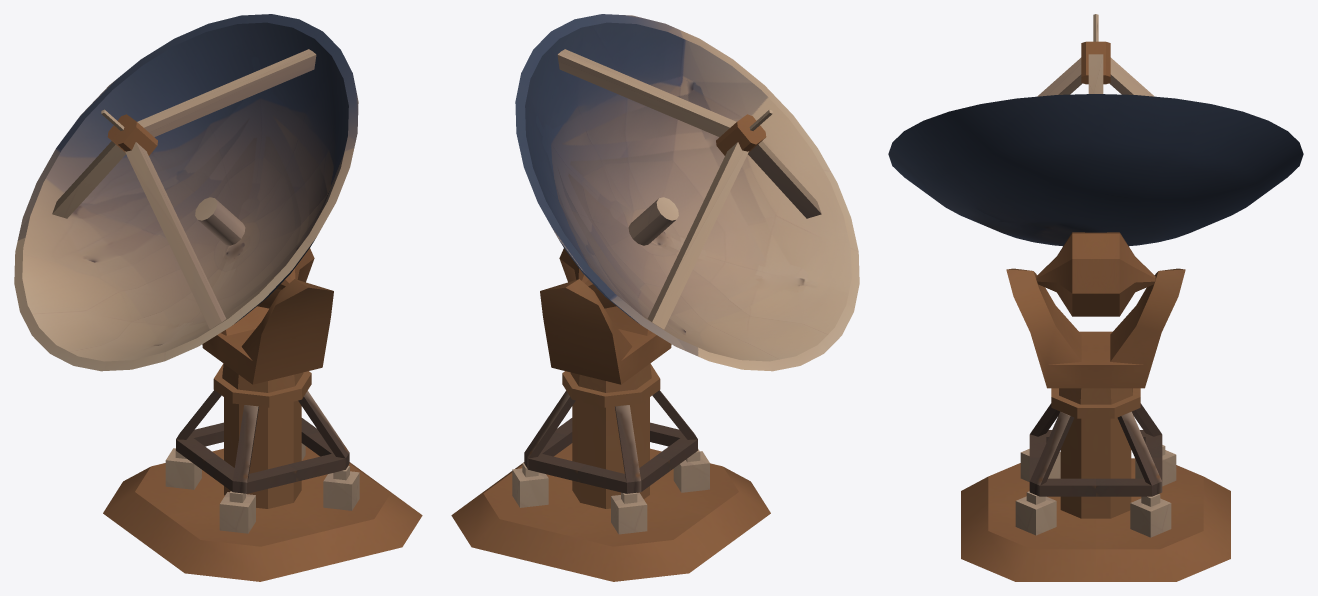
Rendered from satellite_dish.glb.
3 views of the same model, side by side, from view 1: azimuth 30°, elevation 25°; view 2: azimuth 150°, elevation 25°; view 3: azimuth 270°, elevation 25° (orthographic).
Parts seen in each view (by area): view 1: material.001, Cube.001, Cube.004, Cylinder, Cube.006, Cube.003, Cube.005, Cylinder.001, Cube, Cylinder.002; view 2: material.001, Cube.001, Cube.004, Cylinder, Cube.005, Cube.003, Cube.006, Cylinder.001, Cube, Cylinder.002; view 3: material.001, Cube.001, Cube.004, Cylinder, Cylinder.002, Cube, Cube.005, Cube.006, Cube.003.
Part boxes in pixels (box(x1,y1,x2,y2)): material.001: box(14, 14, 358, 371); Cube.001: box(103, 390, 422, 581); Cube.004: box(202, 279, 333, 384); Cylinder: box(213, 363, 311, 508); Cube.006: box(125, 142, 226, 329); Cube.003: box(137, 49, 316, 136); Cube.005: box(52, 141, 125, 218); Cylinder.001: box(195, 197, 245, 245); Cube: box(107, 114, 157, 155); Cylinder.002: box(257, 248, 314, 308); material.001: box(515, 14, 859, 371); Cube.001: box(451, 390, 770, 581); Cube.004: box(540, 279, 671, 384); Cylinder: box(562, 363, 660, 508); Cube.005: box(647, 142, 748, 329); Cube.003: box(557, 49, 736, 136); Cube.006: box(748, 141, 821, 218); Cylinder.001: box(628, 197, 678, 245); Cube: box(716, 114, 766, 155); Cylinder.002: box(559, 248, 616, 308); material.001: box(888, 94, 1303, 246); Cube.001: box(961, 403, 1230, 581); Cube.004: box(1006, 268, 1185, 388); Cylinder: box(1051, 388, 1140, 518); Cylinder.002: box(1036, 232, 1155, 316); Cube: box(1081, 41, 1110, 84); Cube.005: box(1109, 57, 1154, 96); Cube.006: box(1037, 57, 1082, 96); Cube.003: box(1088, 54, 1103, 93).
Bounding box in the file's own units: 4.44 × 5.99 × 4.91.
Materials: 1 (1 with a texture image).
